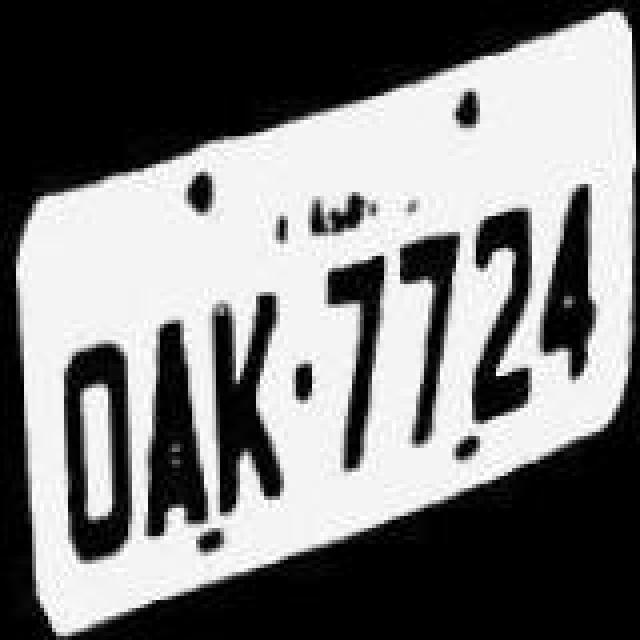2: (462, 194, 546, 434)
4: (528, 176, 612, 392)
7: (318, 236, 398, 488), (390, 214, 466, 450)
A: (134, 304, 210, 540)
K: (200, 284, 292, 520)
O: (54, 326, 138, 570)
